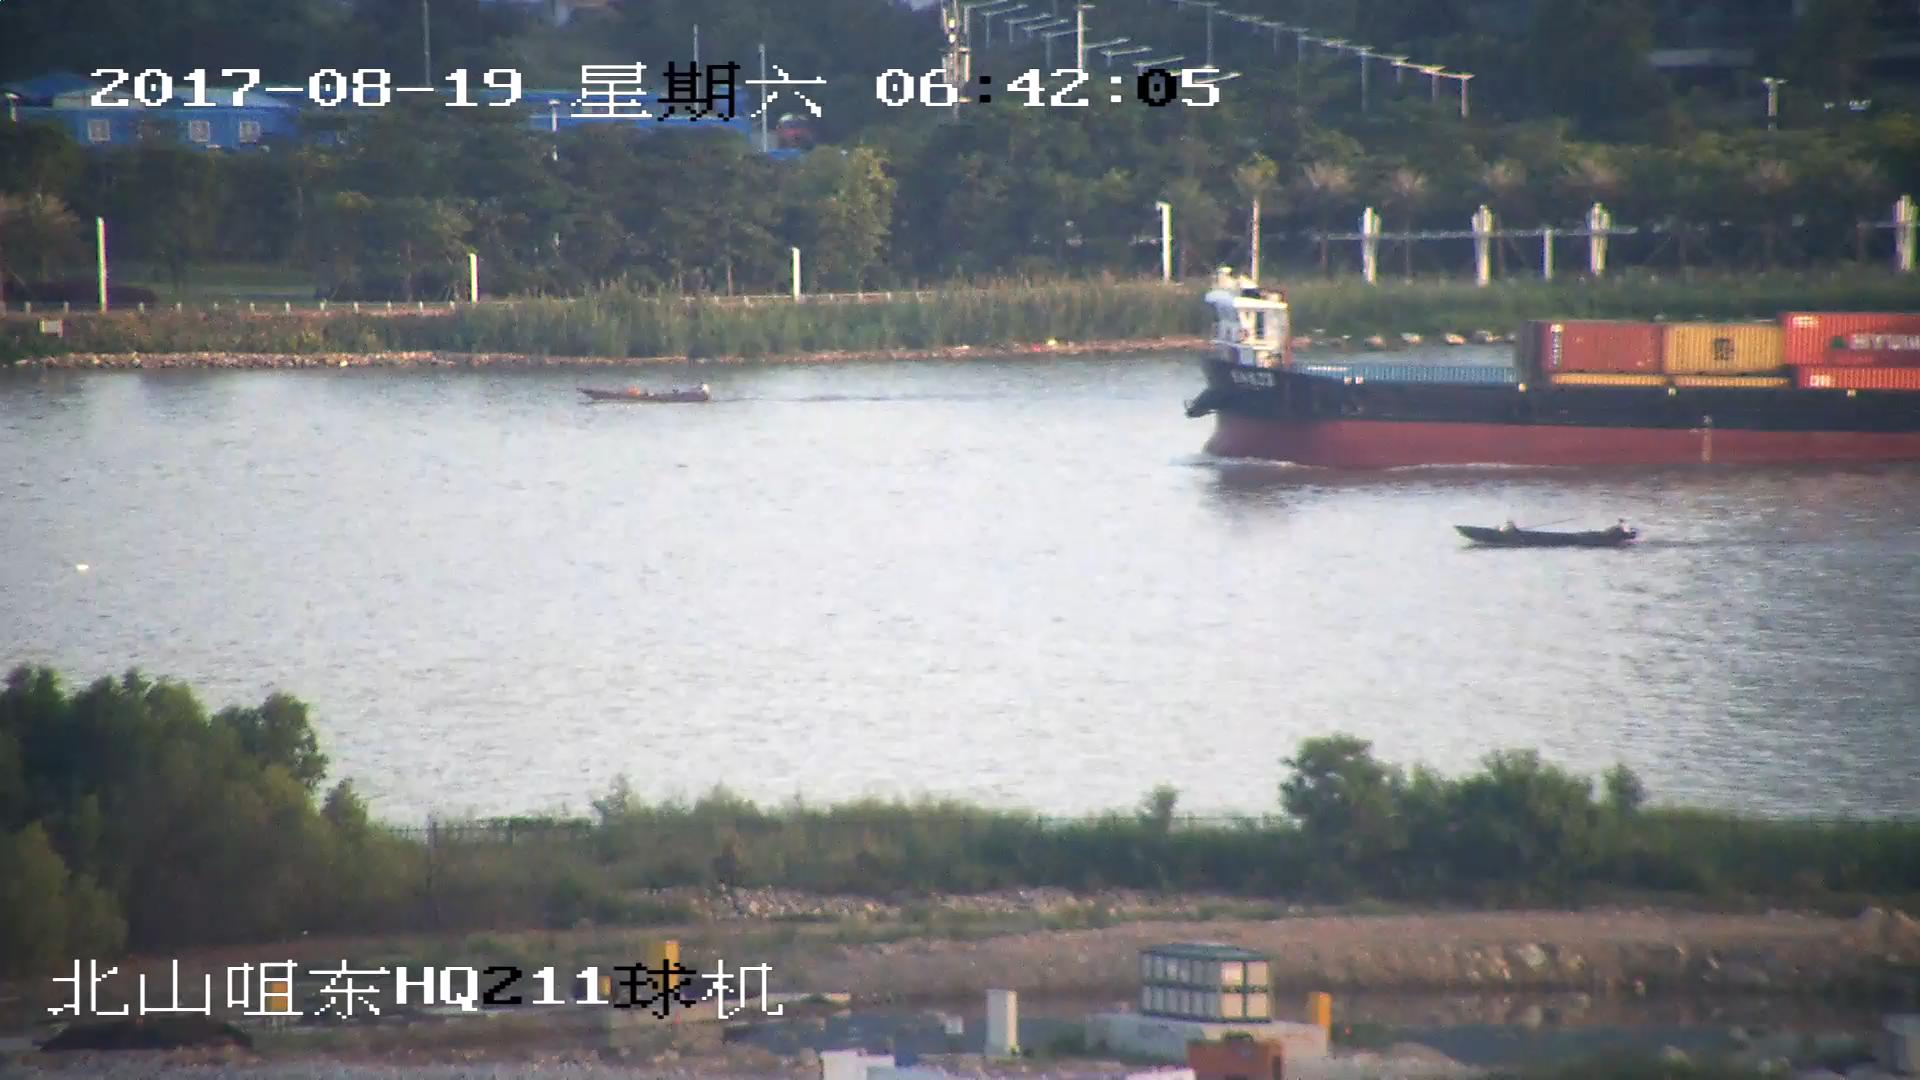container ship: (1180, 260, 1920, 473)
fishing boat: (1459, 514, 1637, 554), (578, 375, 708, 407)
